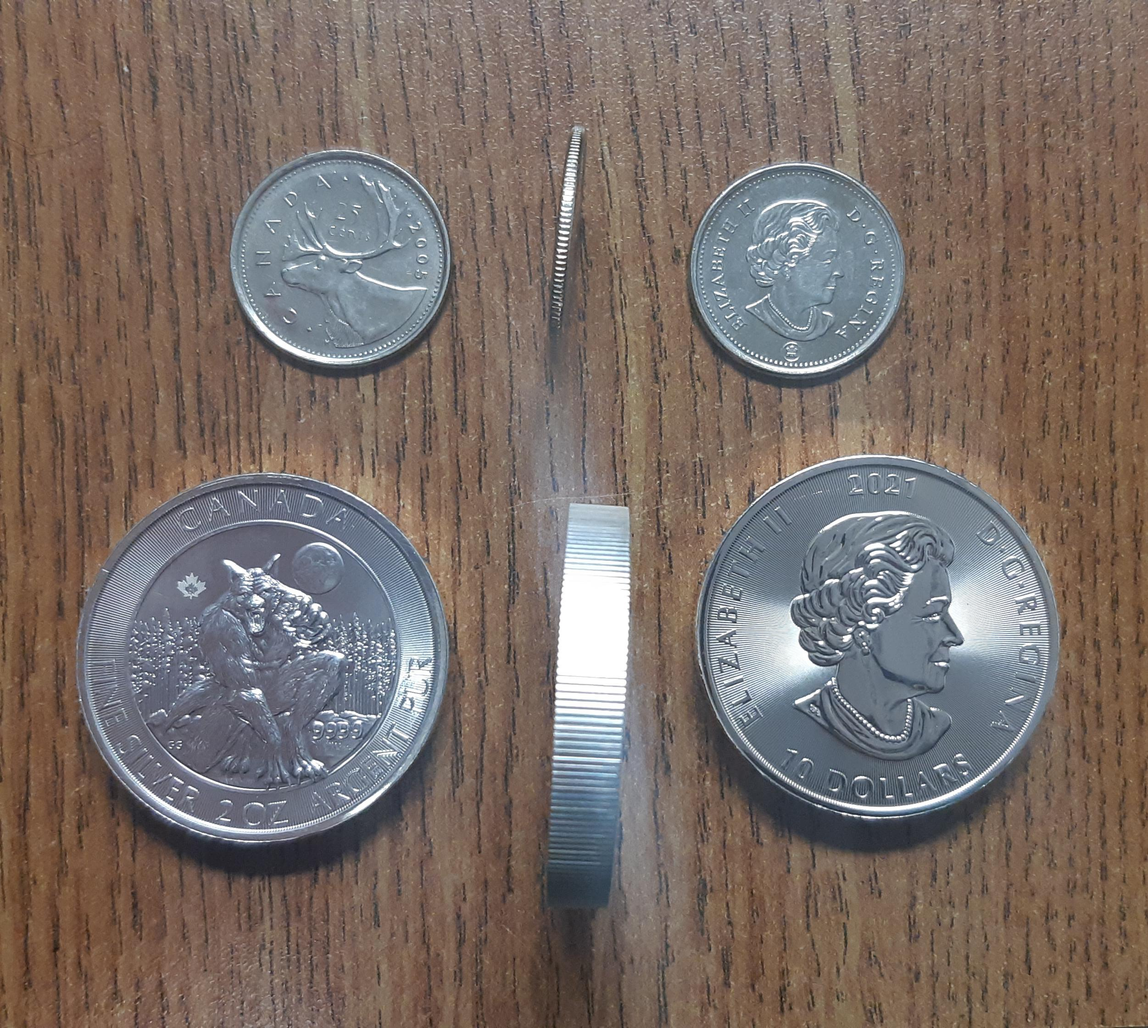coin: (78, 474, 447, 842), (697, 456, 1059, 818), (231, 150, 449, 367), (690, 163, 904, 379)
